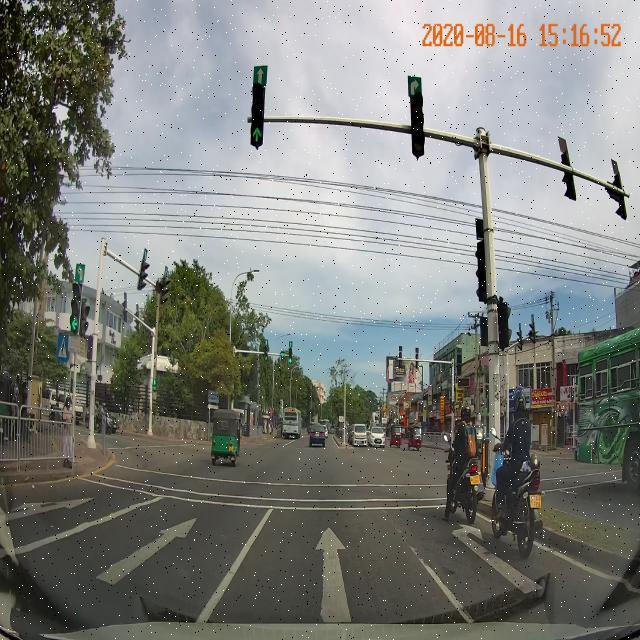forward: (196, 525, 478, 625)
